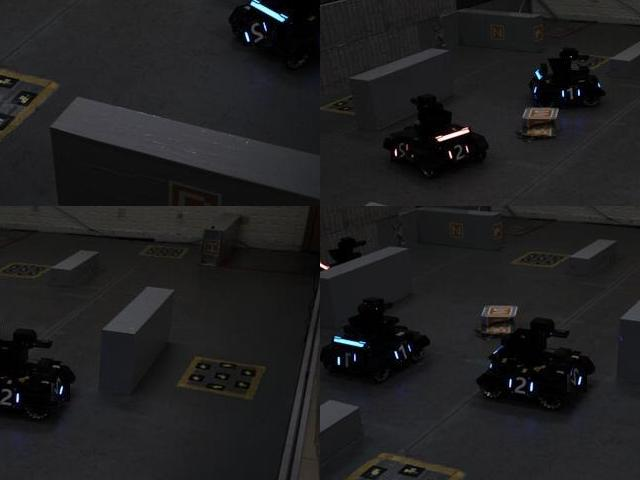armor: (504, 372, 537, 402), (243, 18, 273, 47), (333, 349, 362, 375), (390, 337, 415, 367), (0, 383, 24, 414), (443, 142, 473, 165), (568, 362, 589, 394), (392, 138, 416, 164), (51, 373, 71, 403), (558, 84, 584, 104)
